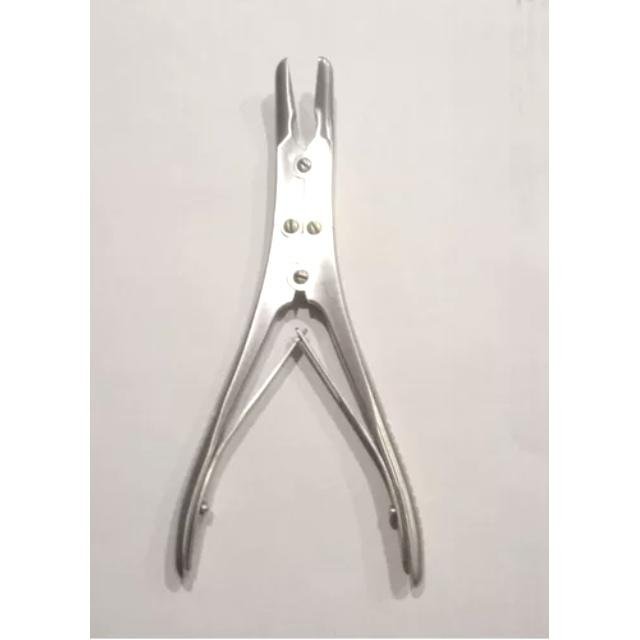gubia: (168, 57, 425, 599)
